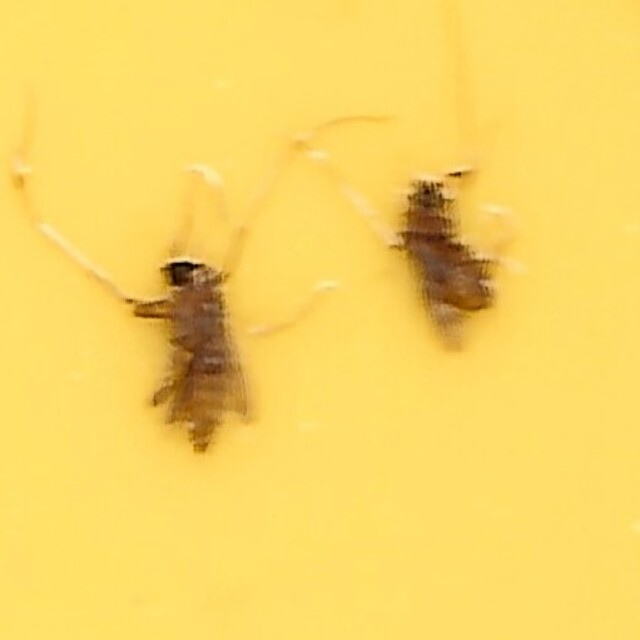Nematocera: (125, 234, 261, 481), (395, 159, 515, 363)
